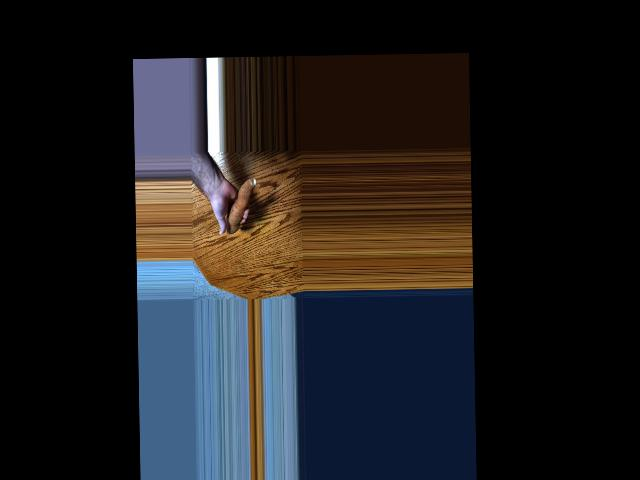sweet_potato: (226, 177, 256, 236)
